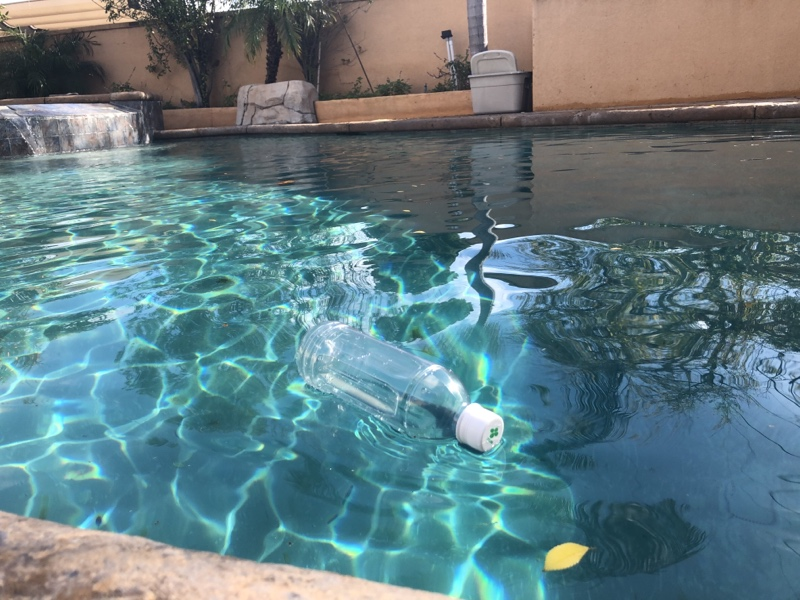Plastic Bottle: (289, 318, 506, 457)
